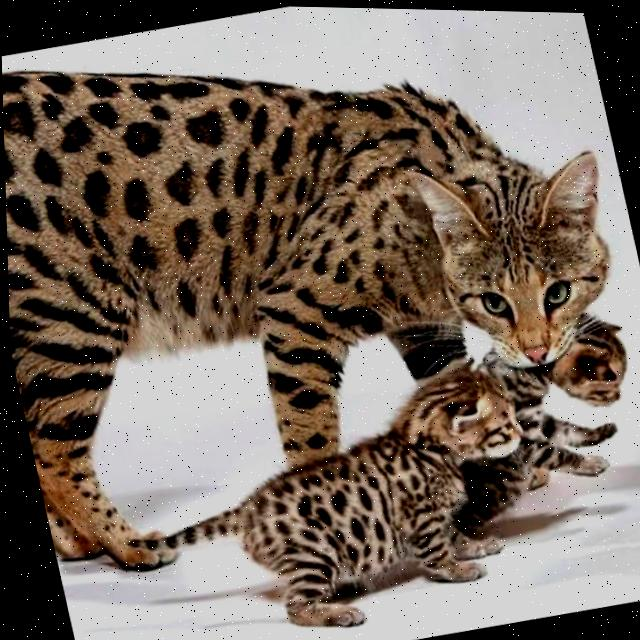Savannah: (0, 0, 640, 466), (91, 337, 562, 640)
